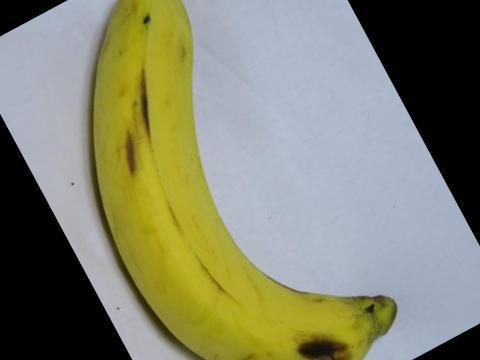freshripe: (79, 0, 413, 359)
